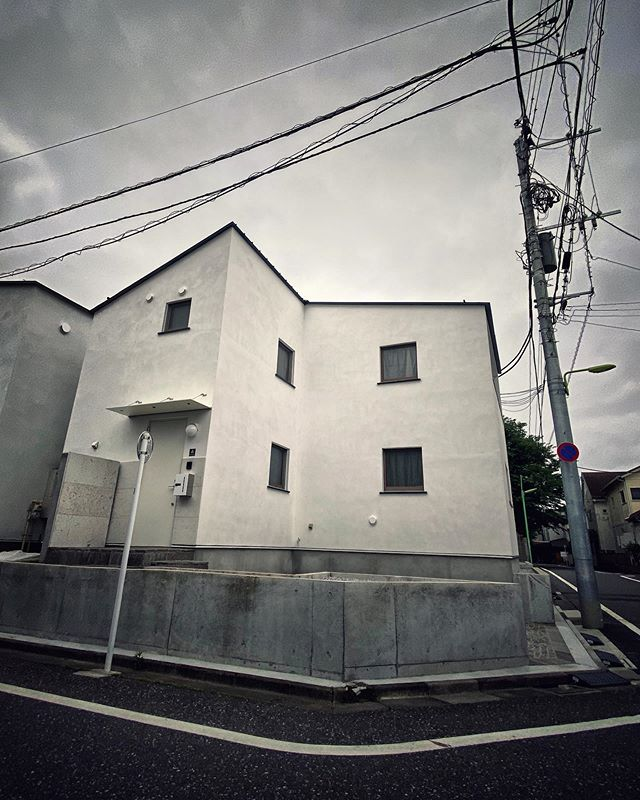building: (64, 224, 533, 683)
power pole: (500, 113, 640, 692)
sky: (12, 1, 640, 429)
